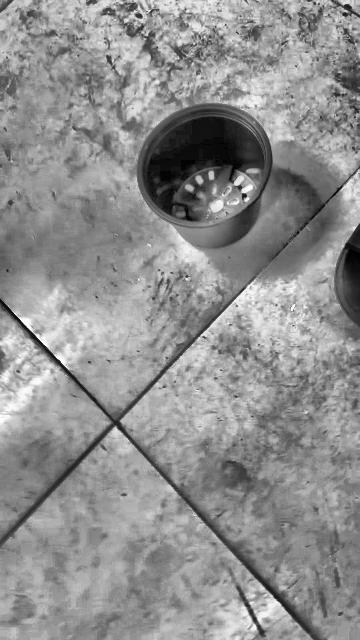pot: (137, 104, 273, 249)
